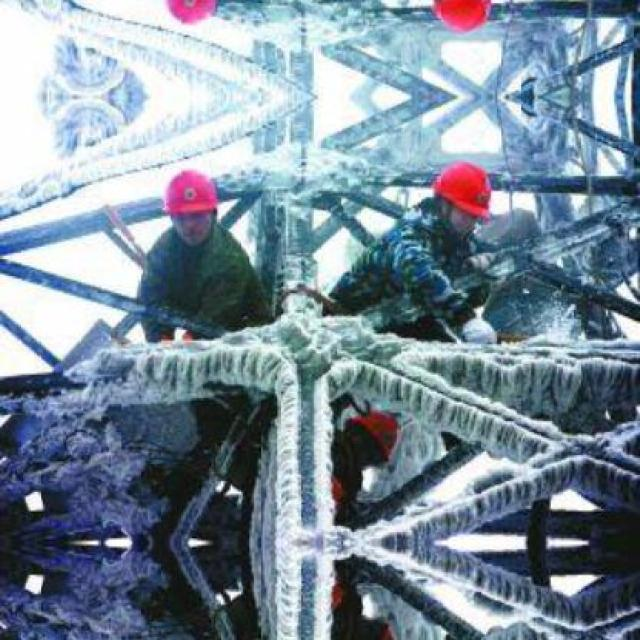helmet: (426, 152, 494, 235), (162, 165, 220, 241), (426, 0, 496, 43), (161, 0, 220, 29)
